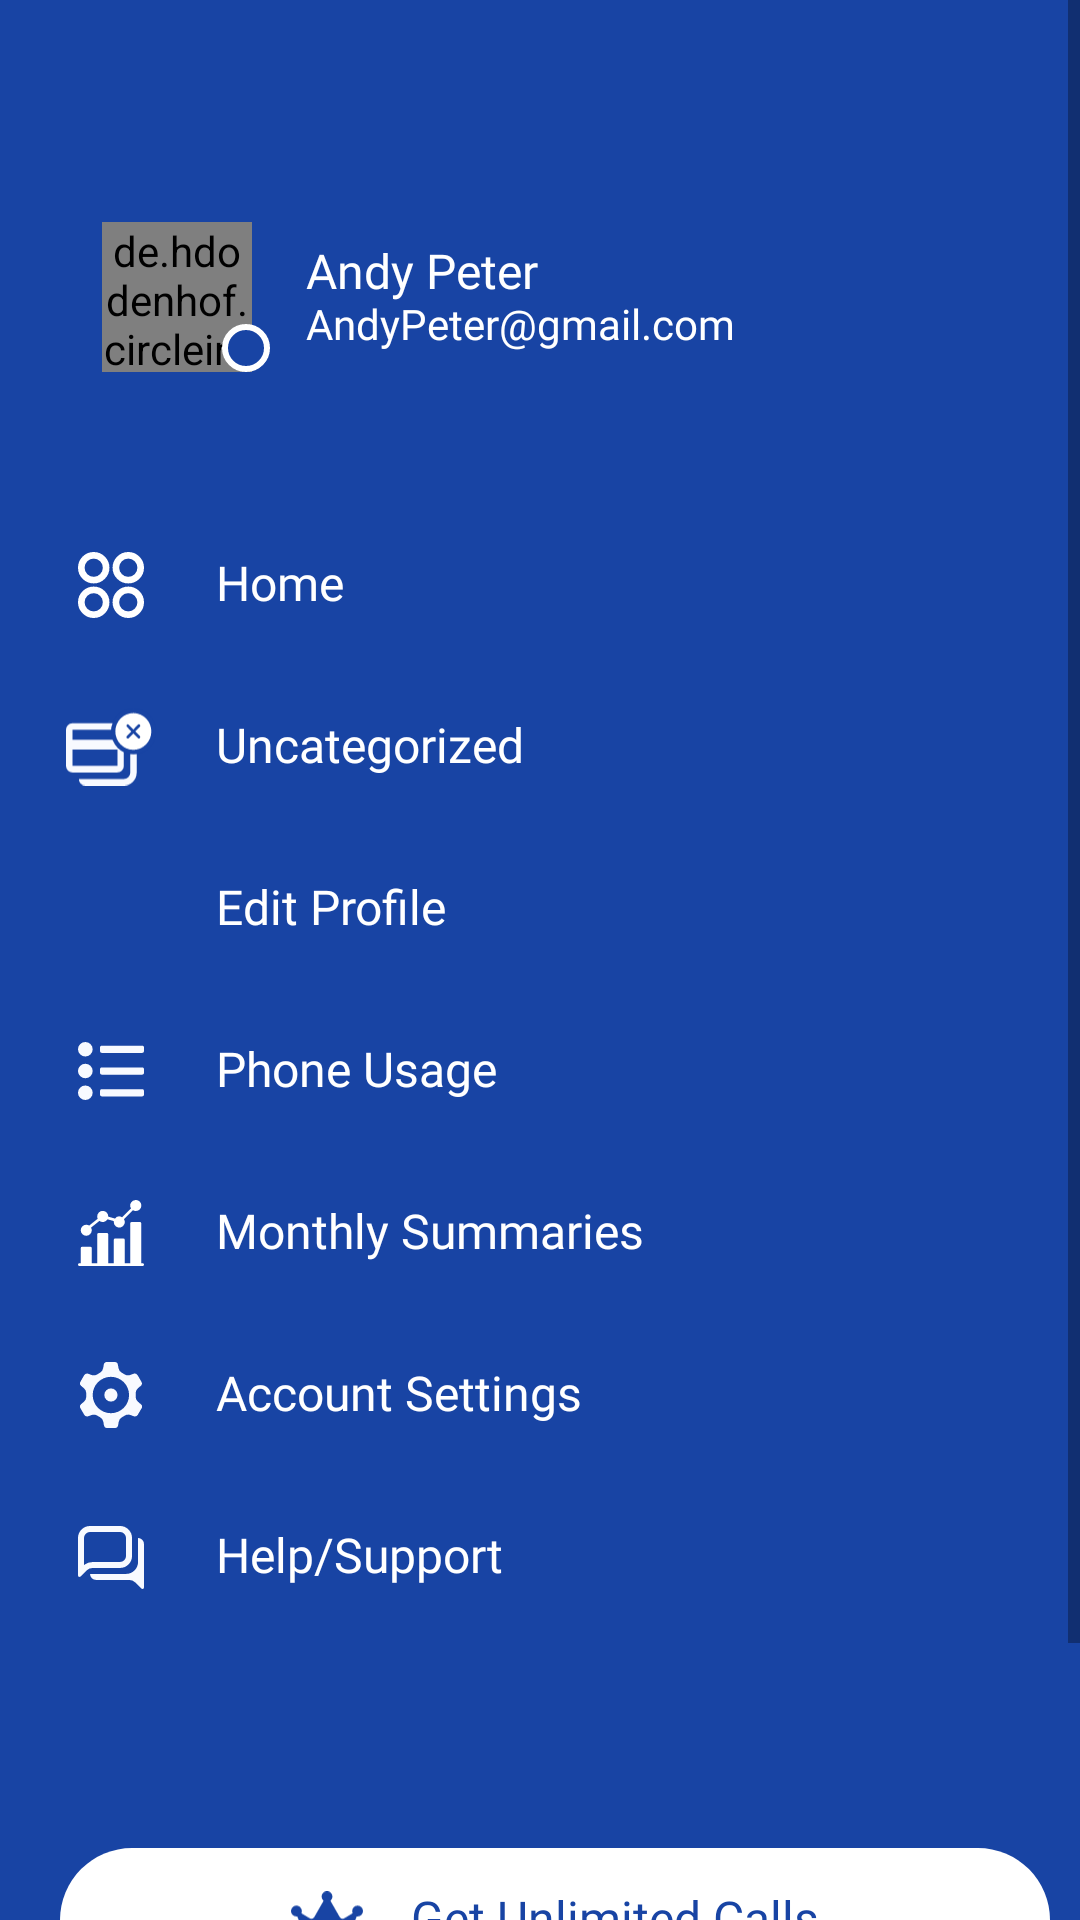

Locate icon controls on the screen. Image size 1080px x 1920px, boxes as (x1, y1, x2, y2).
monthly summary: (78, 1200, 144, 1266)
